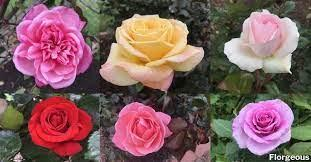Rose: (103, 11, 204, 90), (9, 2, 97, 89), (222, 7, 303, 82), (29, 95, 95, 162), (228, 98, 298, 155), (109, 98, 174, 159)
